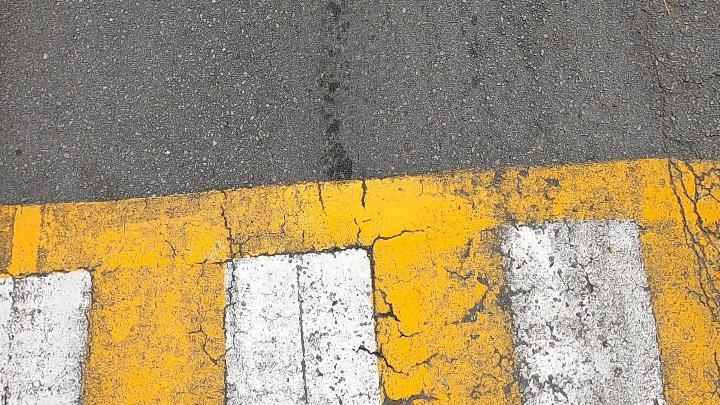Lane: (0, 153, 720, 405), (0, 164, 719, 405), (0, 164, 5, 173)
